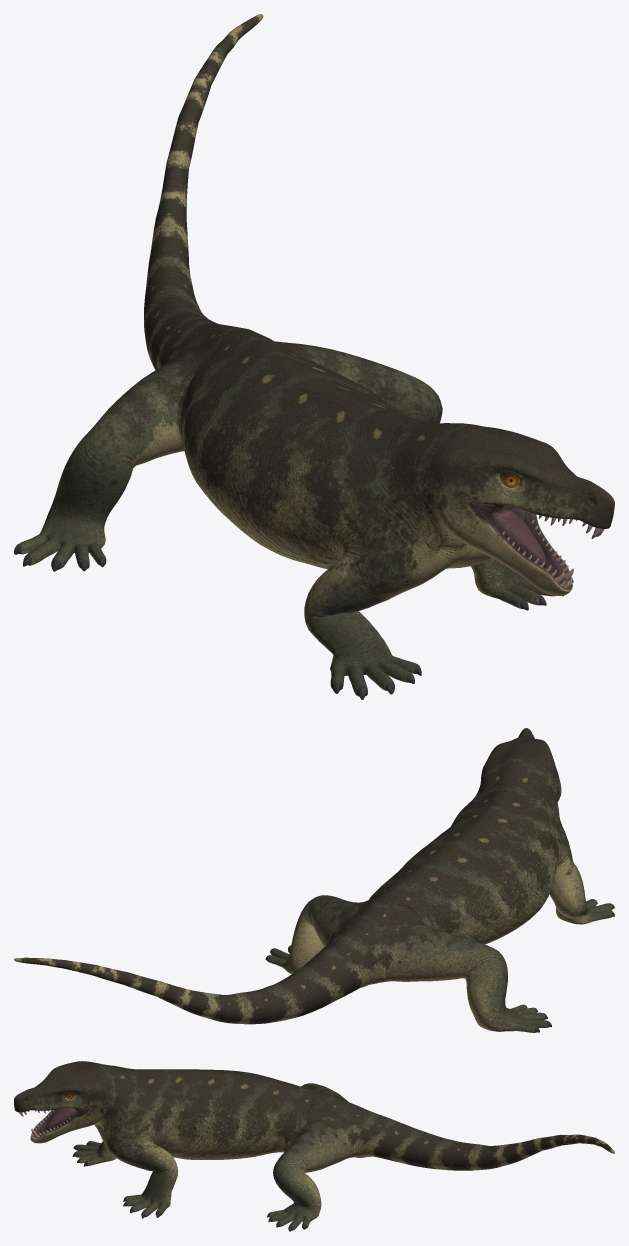
The model's file is limnoscelis.glb.
3 views of the same model, one above another, from view 1: azimuth 30°, elevation 25°; view 2: azimuth 150°, elevation 25°; view 3: azimuth 270°, elevation 25° (orthographic). The views are drawn at different scales.
Parts seen in each view (by area): view 1: Plane_0_Skin_0_4, Plane.005_0_Skin_0_10; view 2: Plane_0_Skin_0_4; view 3: Plane_0_Skin_0_4, Plane.005_0_Skin_0_10.
Part boxes in pixels (x1,y1,x2,y2): Plane_0_Skin_0_4: [14, 14, 614, 699]; Plane.005_0_Skin_0_10: [490, 508, 547, 568]; Plane_0_Skin_0_4: [14, 728, 614, 1032]; Plane_0_Skin_0_4: [14, 1061, 614, 1231]; Plane.005_0_Skin_0_10: [45, 1107, 77, 1130].
Bounding box in the file's own units: 0.00375 × 0.00148 × 0.00693.
Materials: 2 (2 with a texture image).
